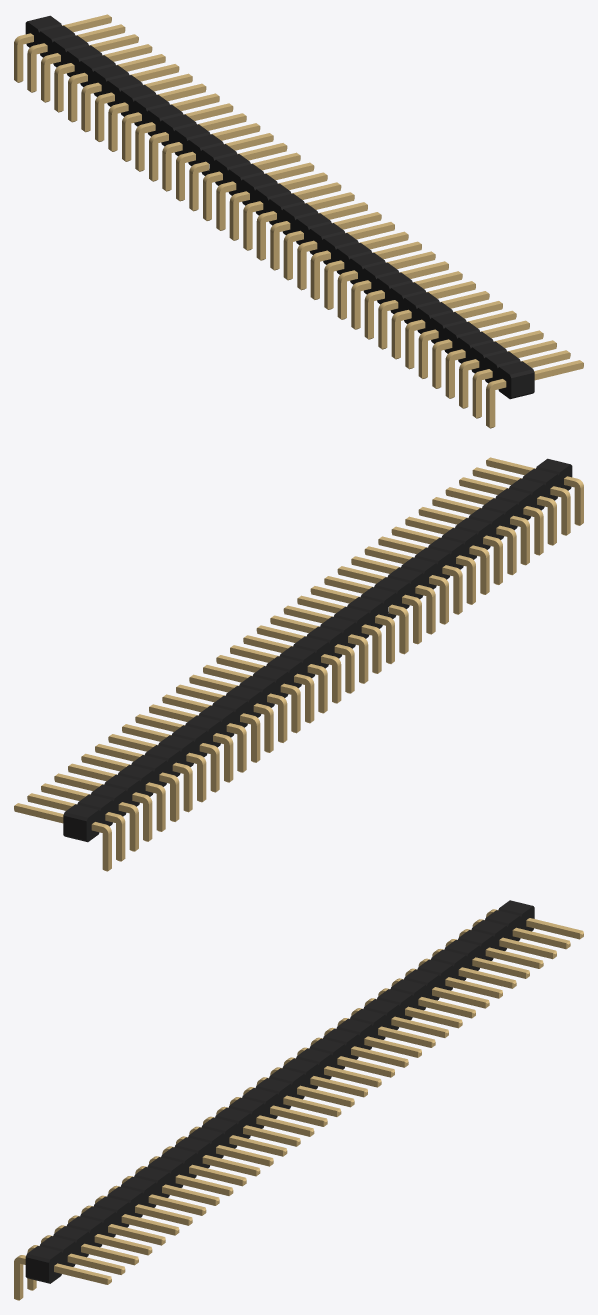
The model's file is kc-pinheader_1x36_p2.54mm_horizontal.glb.
3 renders of one model, top to bottom at view 1: azimuth 30°, elevation 25°; view 2: azimuth 150°, elevation 25°; view 3: azimuth 330°, elevation 25°, orthographic.
Parts seen in each view (by area): view 1: 0.75_0.5_0.25_0.9, 0_0_0_0; view 2: 0.75_0.5_0.25_0.9, 0_0_0_0; view 3: 0.75_0.5_0.25_0.9, 0_0_0_0.
Boxes of the visible parts, x1,y1,x2,y2 form: 0.75_0.5_0.25_0.9: (14,14,583,428); 0_0_0_0: (25,15,534,399); 0.75_0.5_0.25_0.9: (14,457,583,871); 0_0_0_0: (63,458,572,842); 0.75_0.5_0.25_0.9: (14,909,583,1300); 0_0_0_0: (25,900,534,1283).
Size of the model in its own units: 1.04 by 0.5543 by 9.14.
